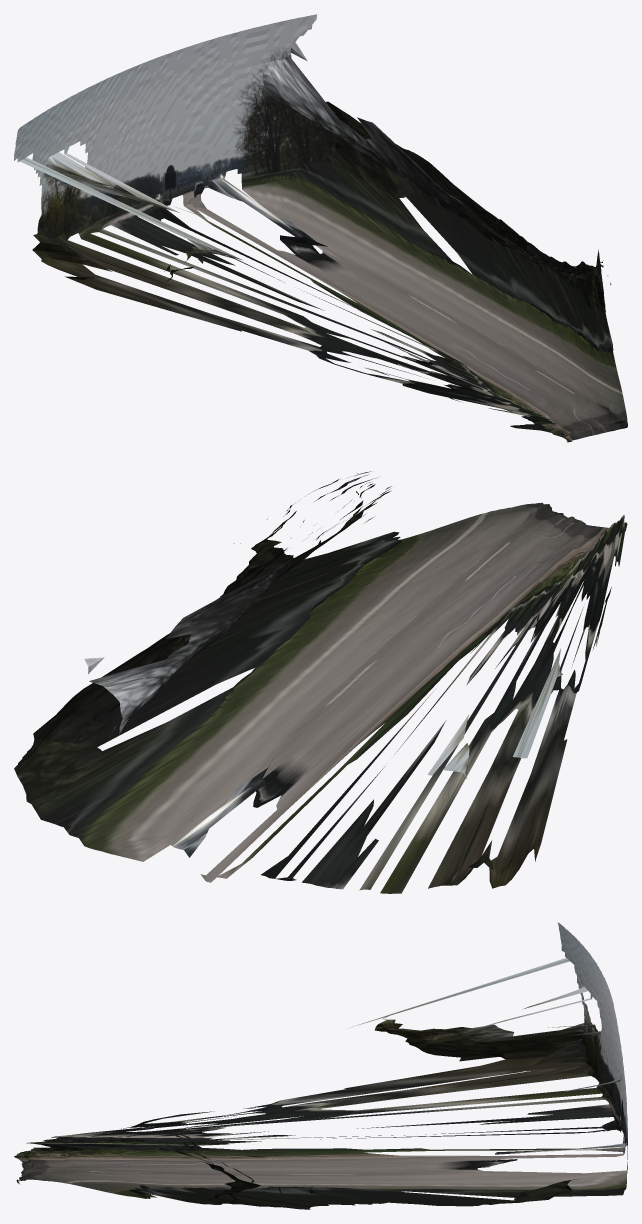
3 views of the same model, one above another, from view 1: azimuth 30°, elevation 25°; view 2: azimuth 150°, elevation 25°; view 3: azimuth 270°, elevation 25° (orthographic). The views are drawn at different scales.
Visible parts, largest first — view 1: defaultobject; view 2: defaultobject; view 3: defaultobject.
Boxes of the visible parts, <box> form: defaultobject: <box>14,14,627,442</box>; defaultobject: <box>14,471,627,893</box>; defaultobject: <box>14,922,627,1209</box>.
Bounding box in the file's own units: 30.83 × 12.08 × 44.88.
1 material, 1 textured.
